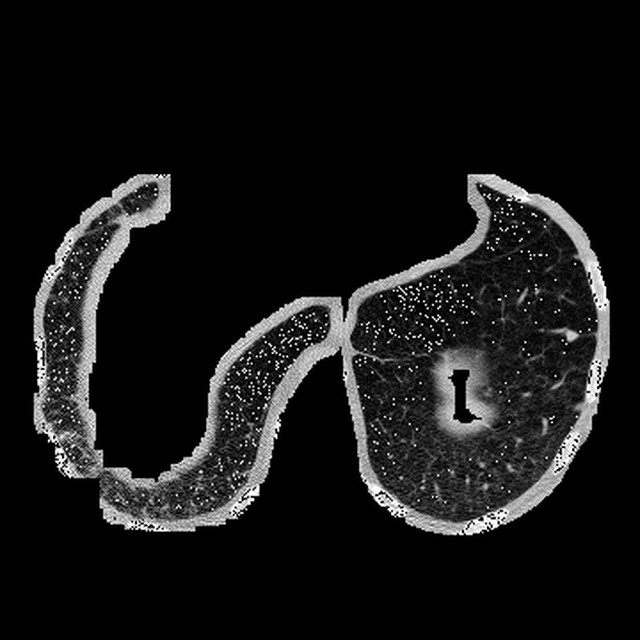PN: (565, 329, 576, 340)
